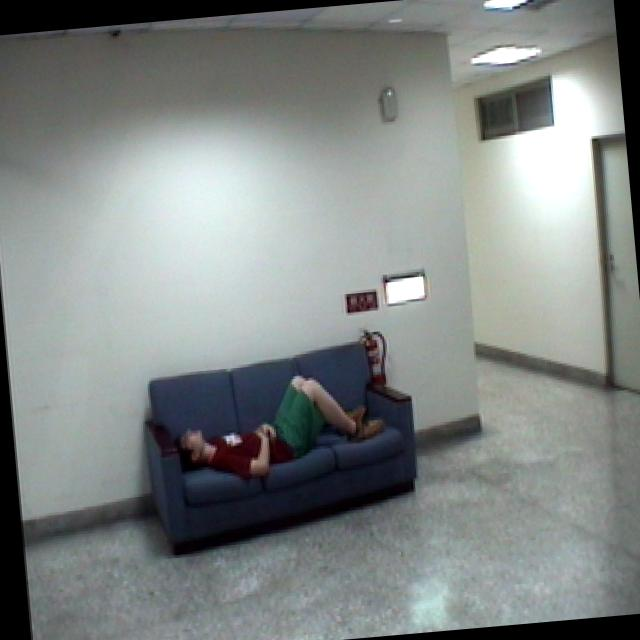lie: (168, 364, 396, 494)
